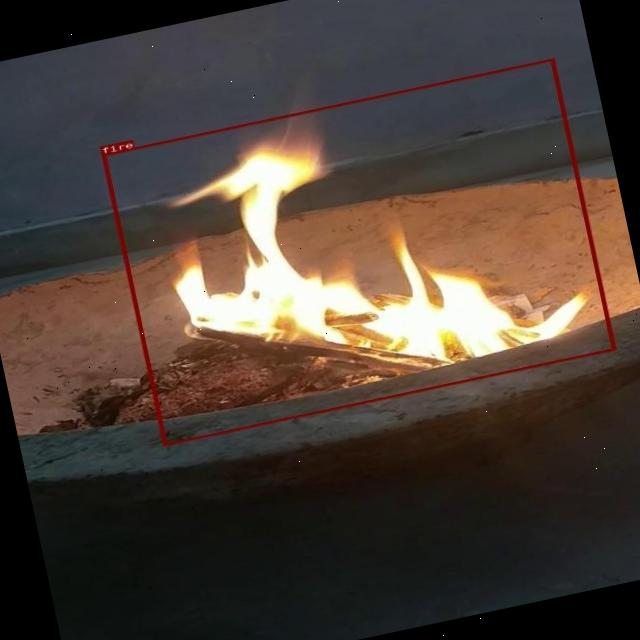fire: (100, 58, 616, 446)
